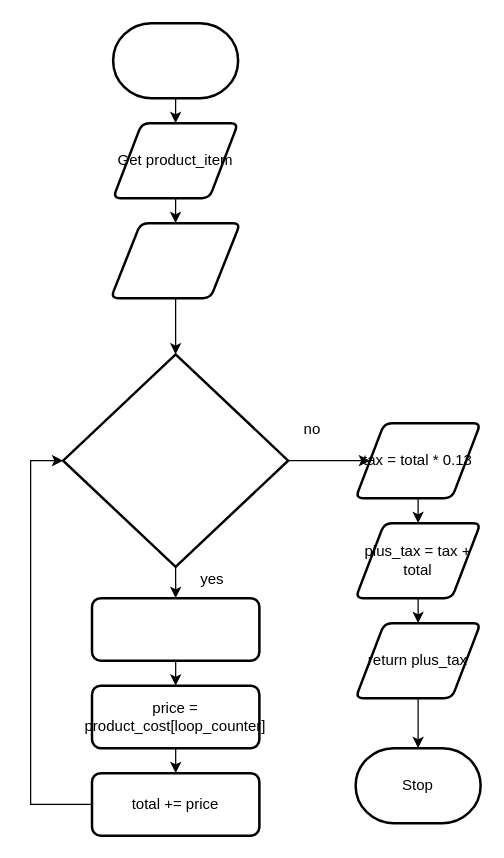
Image size: 504x858. Some labels were removed from this diagram. Here are the shapes that lost their labels. From the top down, the centre of each, then its label:
At point (175, 60): "find_tax".
At point (175, 260): "Get product_cost".
At point (175, 460): "for loop_counter in range(len(product_item)".
At point (175, 628): "item = product_item[loop_counter]".
